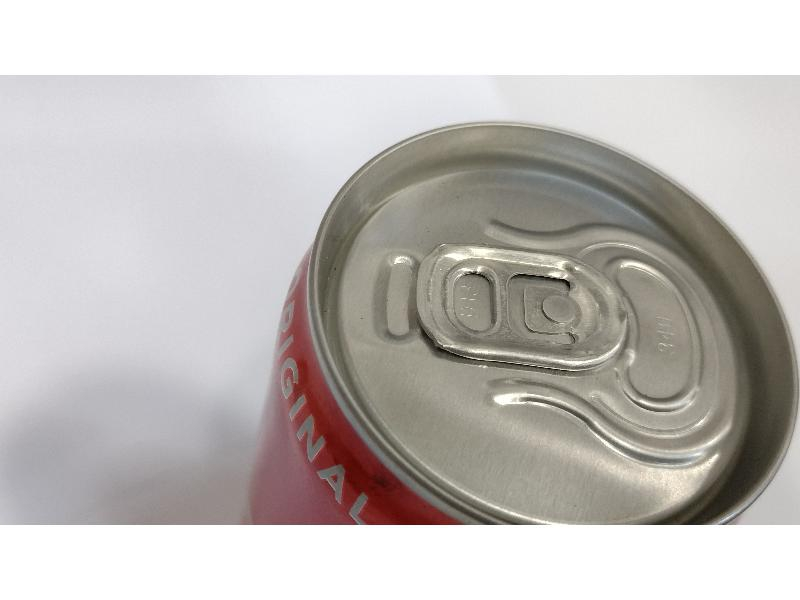can: (240, 113, 785, 521)
